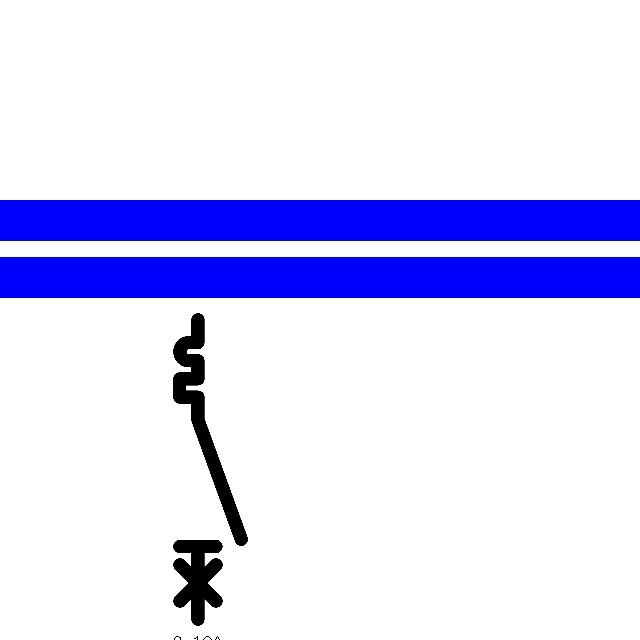interruptor_termomagnetico: (172, 312, 249, 627)
